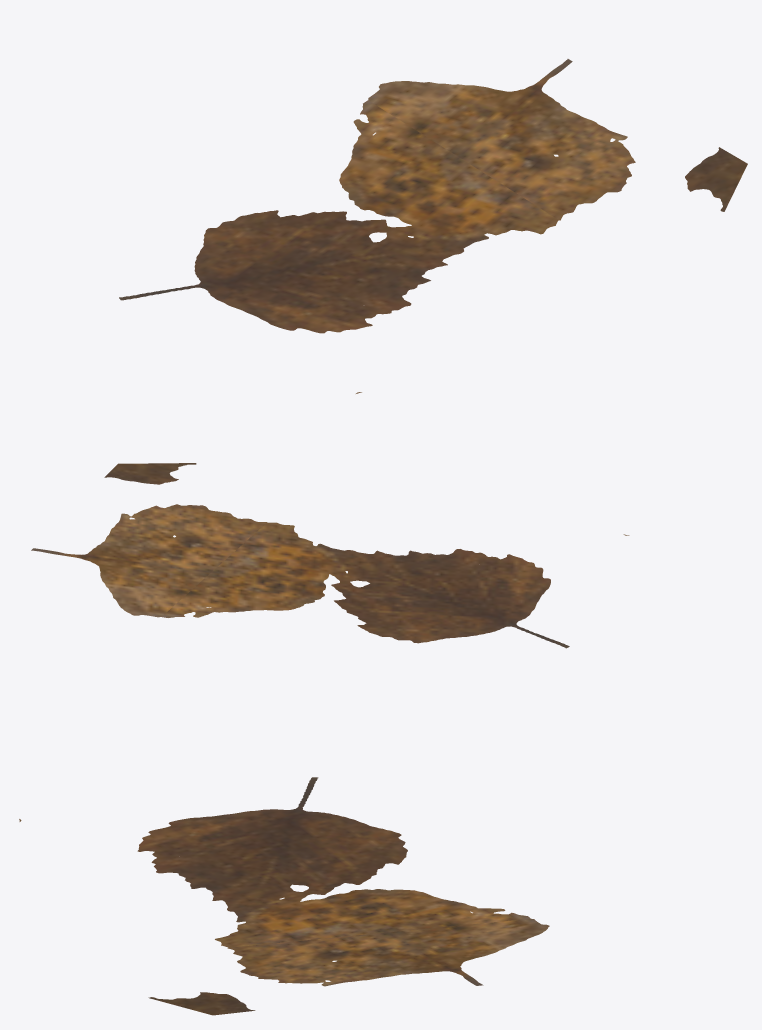
The model's file is SM_Leaves03.fbx.
The picture shows the model from 3 angles, top to bottom: view 1: azimuth 30°, elevation 25°; view 2: azimuth 150°, elevation 25°; view 3: azimuth 270°, elevation 25°; orthographic projection. The views are drawn at different scales.
Visible parts, largest first — view 1: SM_Leaves03; view 2: SM_Leaves03; view 3: SM_Leaves03.
Part boxes in pixels (<box>): SM_Leaves03: <box>119,59,747,393</box>; SM_Leaves03: <box>31,463,629,648</box>; SM_Leaves03: <box>19,777,549,1015</box>.
Size of the model in its own units: 43.55 by 3.65 by 45.77.
